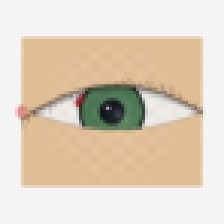hemorrhage_spot: (64, 69, 147, 137)
